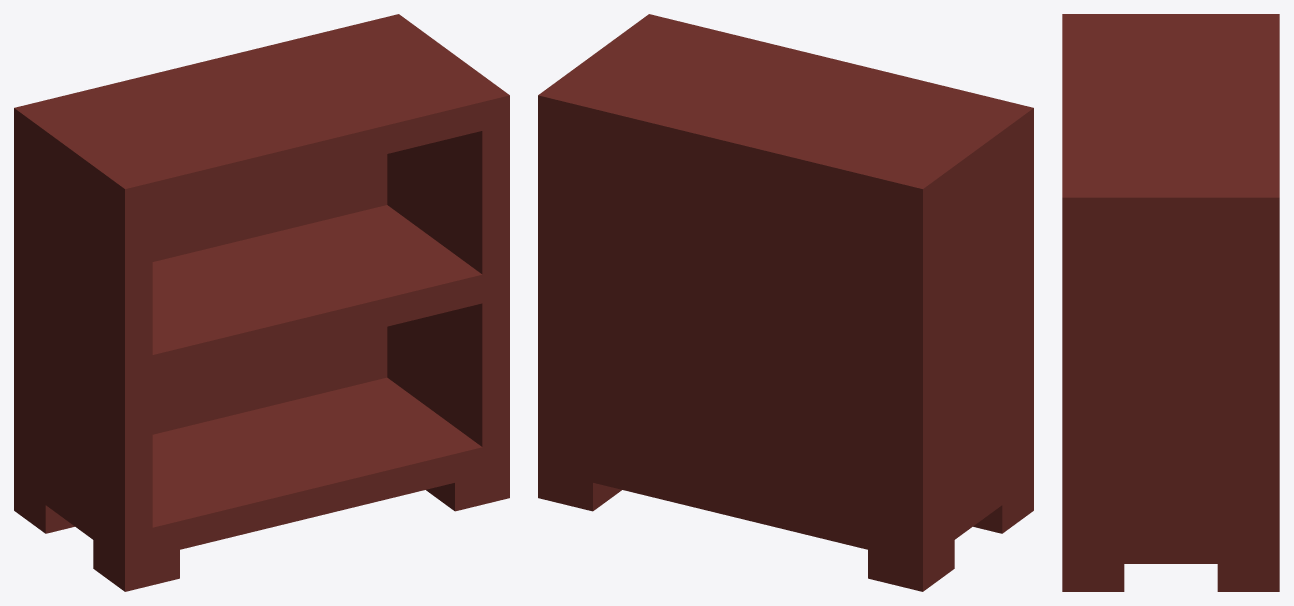
File: large_bookcase_b.obj
The picture shows the model from 3 angles, left to right: view 1: azimuth 30°, elevation 25°; view 2: azimuth 150°, elevation 25°; view 3: azimuth 270°, elevation 25°; orthographic projection. The views are drawn at different scales.
Size of the model in its own units: 1.4 by 1.4 by 0.7.
Materials: 1 (1 with a texture image).
